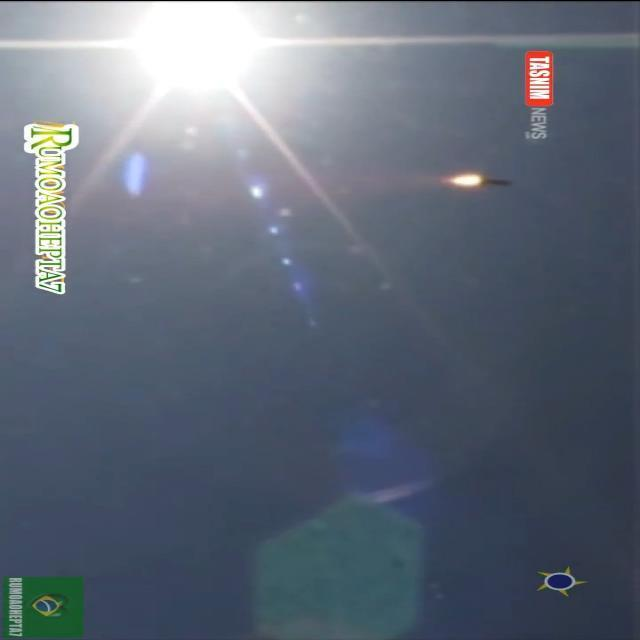Missile: (471, 174, 521, 187)
